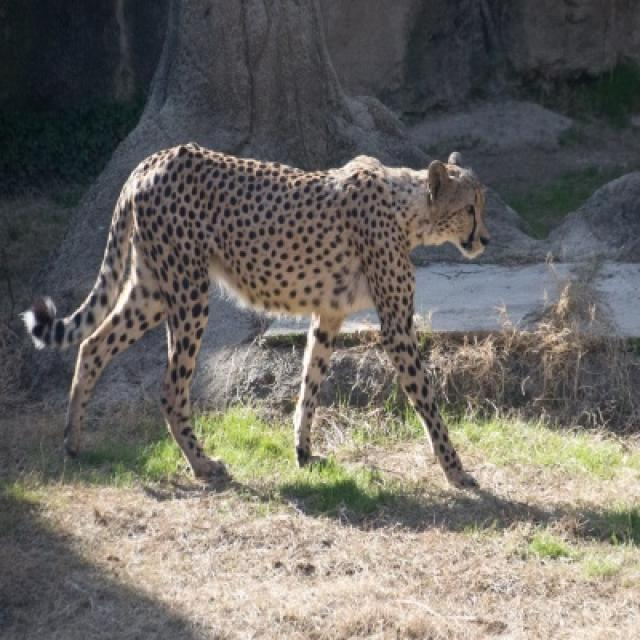Cheetah: (21, 144, 488, 486)
